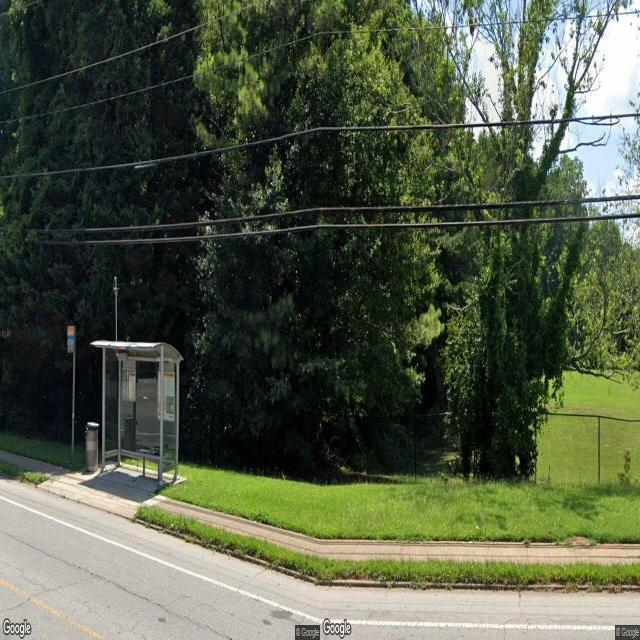seating: (128, 448, 158, 481)
shelter: (90, 340, 182, 490)
trash_can: (85, 424, 99, 472)
